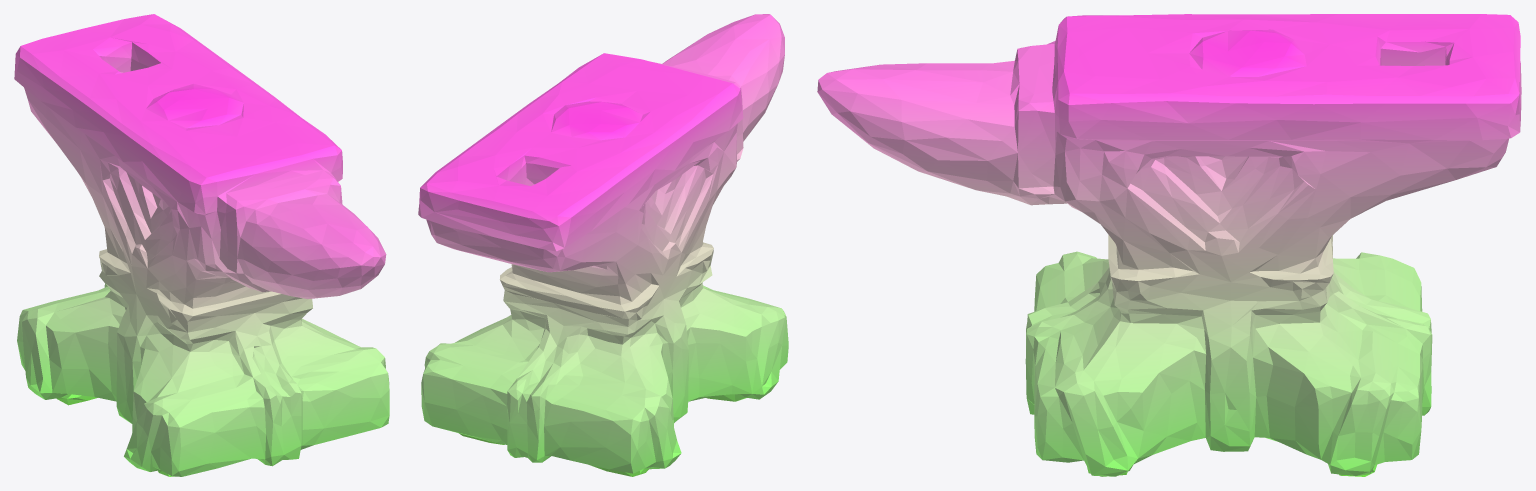
File: 188_cyb_laser_gradient_fish_scales_2937_2026_10_03_8692d5.glb
The picture shows the model from 3 angles, left to right: view 1: azimuth 30°, elevation 25°; view 2: azimuth 150°, elevation 25°; view 3: azimuth 270°, elevation 25°; orthographic projection. The views are drawn at different scales.
Visible parts, largest first — view 1: geometry_0; view 2: geometry_0; view 3: geometry_0.
Part boxes in pixels (x1=…): geometry_0: x1=14, y1=14, x2=389, y2=476; geometry_0: x1=418, y1=14, x2=788, y2=476; geometry_0: x1=817, y1=14, x2=1521, y2=476.
Bounding box in the file's own units: 0.483 × 0.5864 × 0.999.
